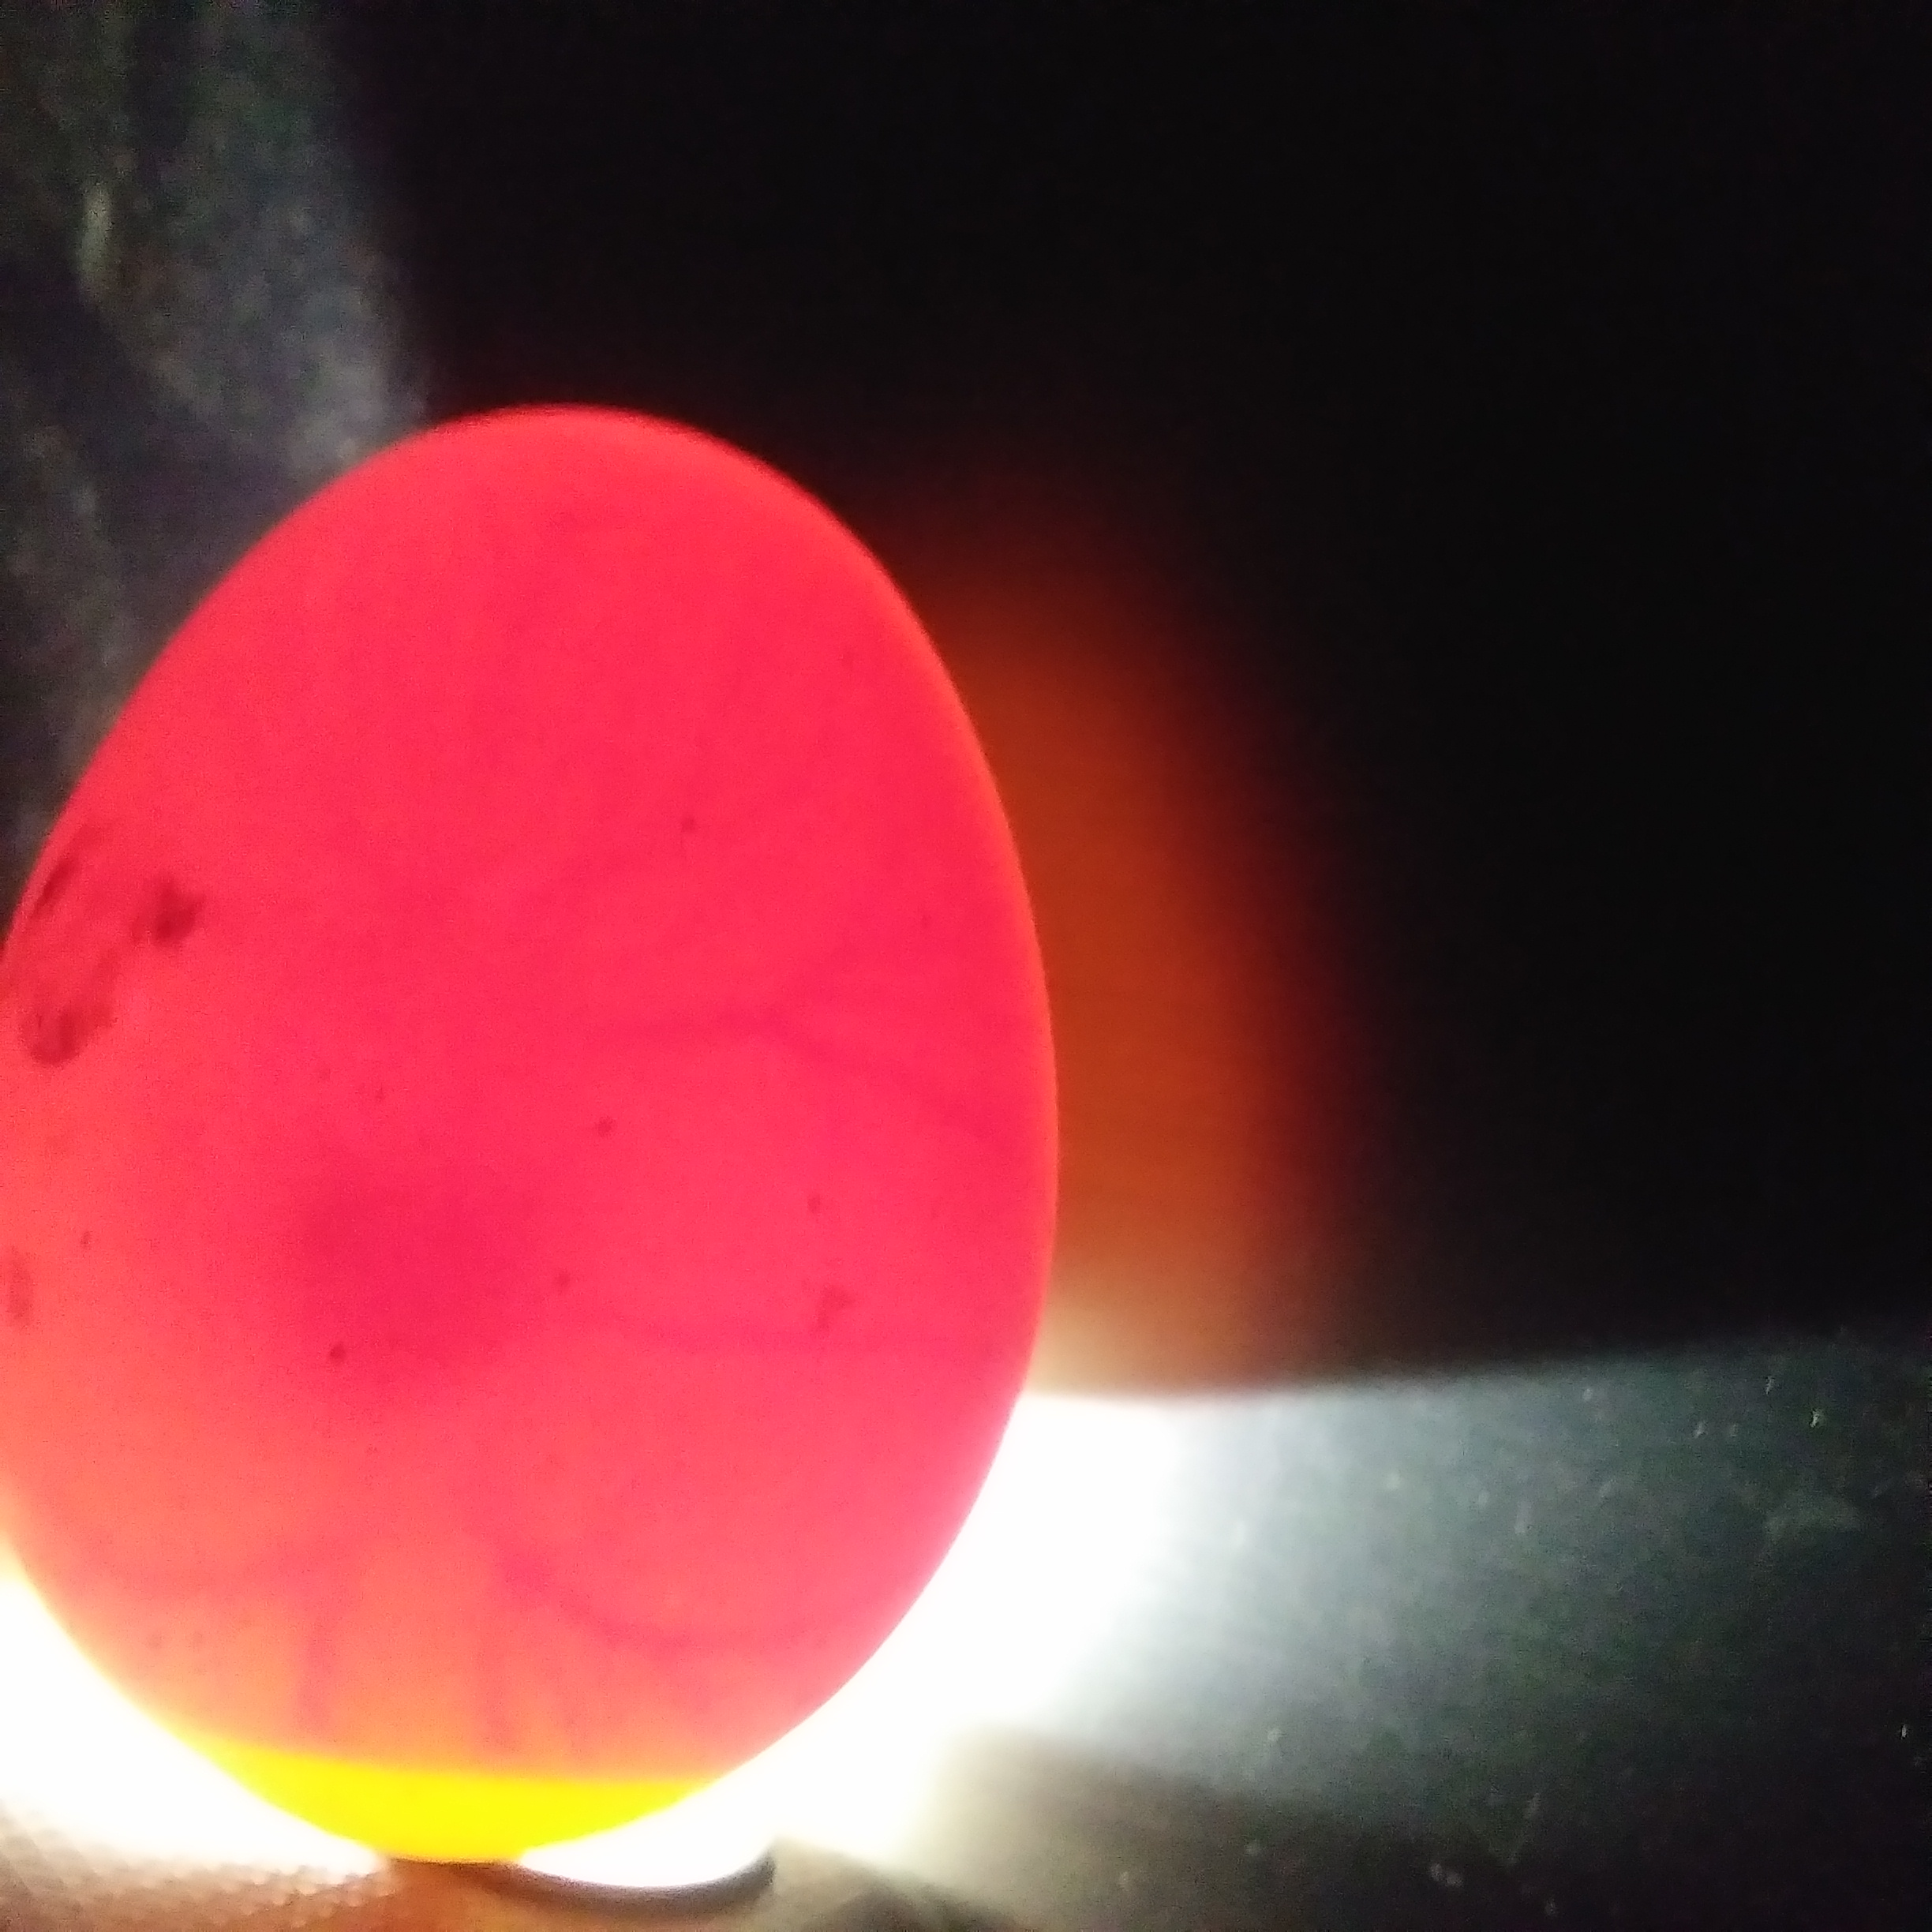bloodcell: (126, 1412, 745, 1743), (630, 895, 964, 1389)
embryo: (283, 1173, 533, 1384)
